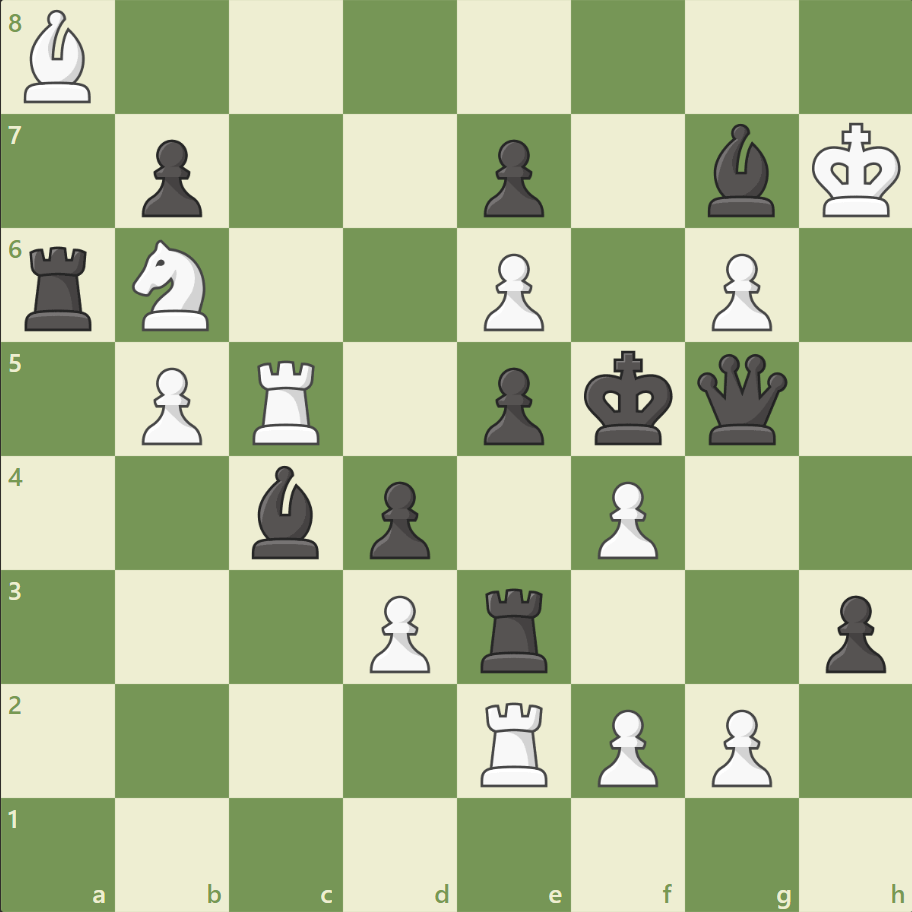B: (17, 6, 101, 109)
K: (806, 117, 906, 225)
N: (124, 234, 222, 337)
P: (474, 246, 549, 337), (701, 246, 776, 337), (133, 359, 208, 450), (701, 700, 776, 791), (588, 473, 662, 564), (361, 586, 435, 677), (588, 700, 662, 791)
R: (246, 352, 329, 449), (473, 693, 556, 790)
b: (244, 460, 328, 563), (698, 120, 782, 222)
k: (579, 344, 679, 452)
p: (133, 132, 208, 223), (474, 132, 549, 223), (474, 359, 549, 450), (361, 473, 435, 564), (815, 586, 889, 677)
q: (691, 349, 790, 449)
r: (19, 239, 102, 336), (473, 579, 556, 676)
